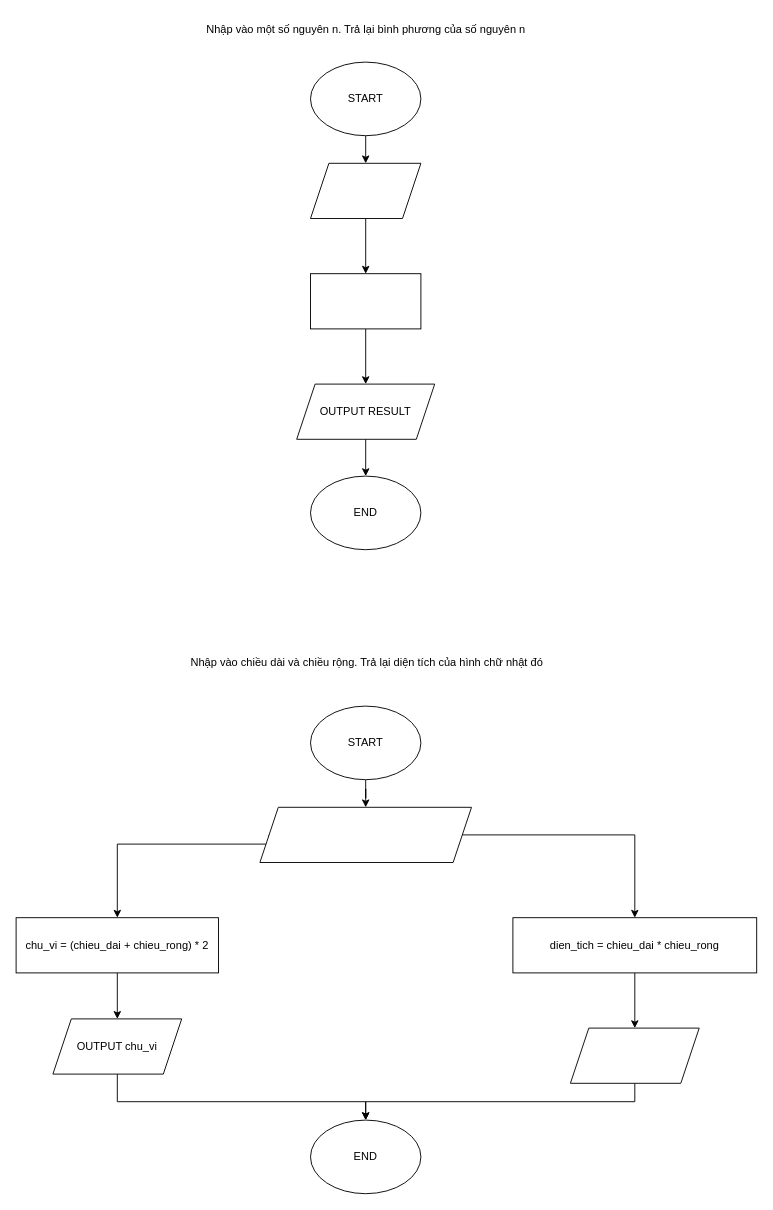
The diagram is 773 pixels wide and 1210 high, and some of its shapes have lost their labels. Here are the shapes that lost their labels. From the top down, the centre of each, then its label:
the point at 365,190: INPUT n
the point at 365,301: RESULT = n*n
the point at 365,834: INPUT chieu_dai, chieu_rong
the point at 634,1055: OUTPUT dien_tich
